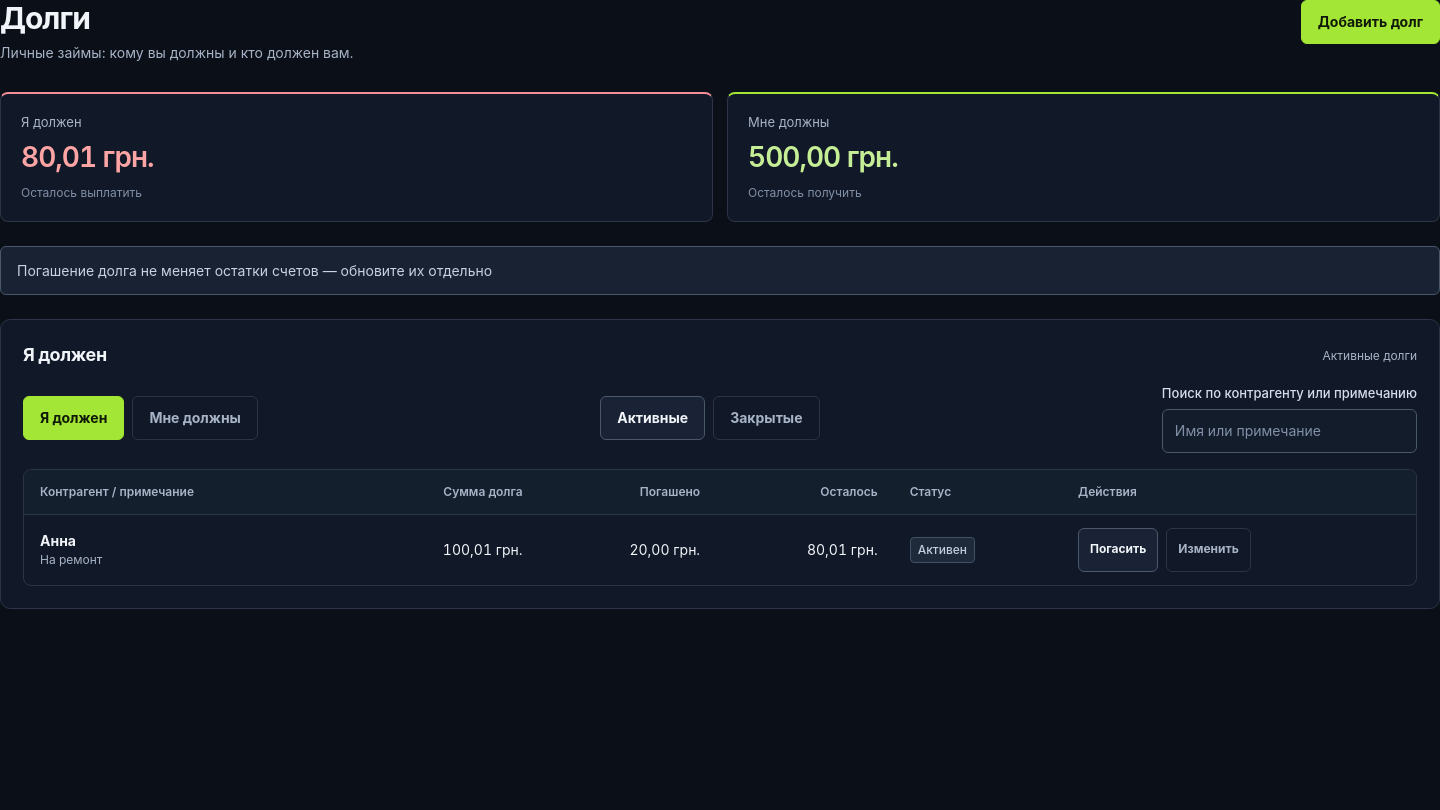
DebtsPage › filters by note, direction and closed state while keeping direction totals
In the search field: (1289, 431) [1162,409,1417,453], type "РЕМОНТ"
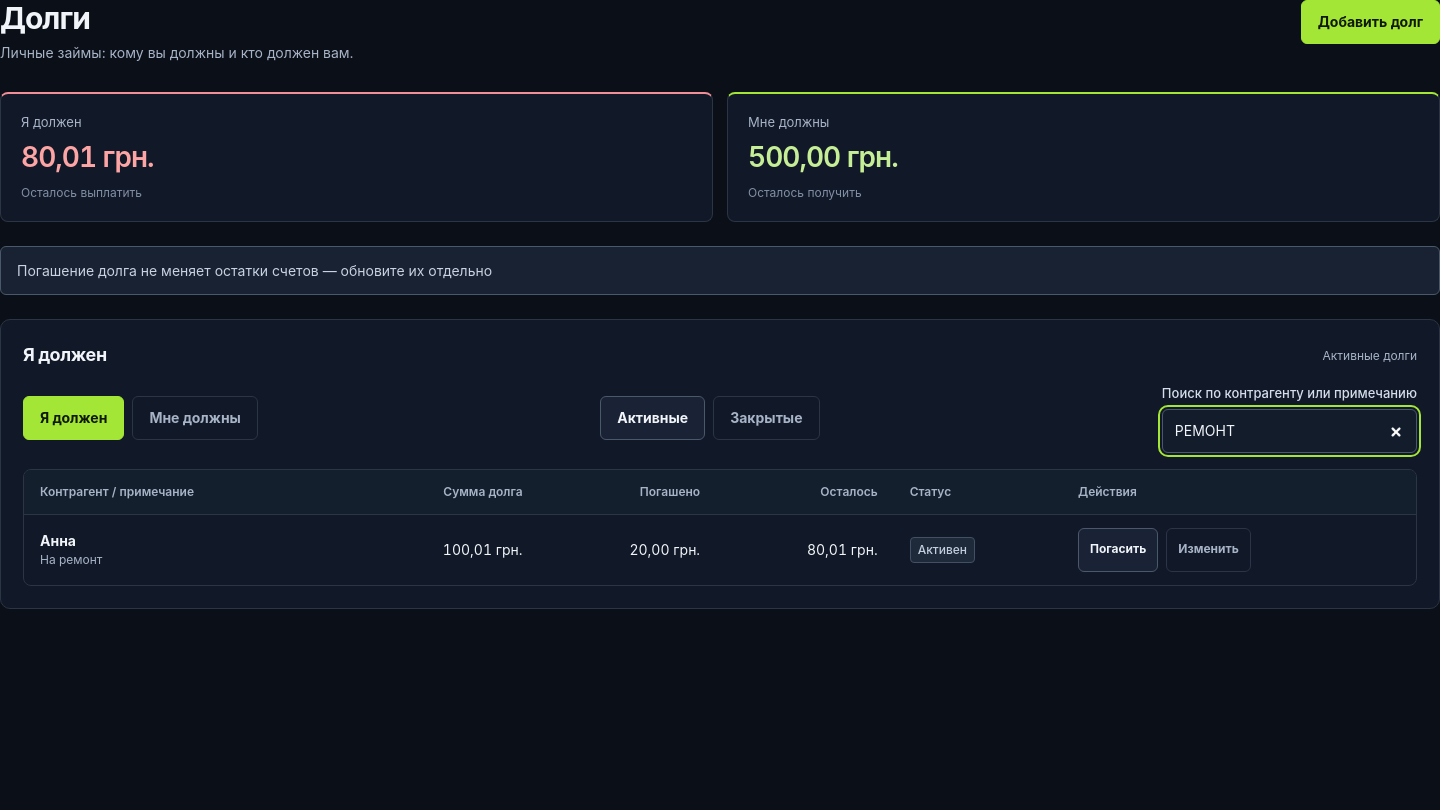
Check: the row "Анна" is shown, box [24,514,1416,585]
Replace the text in the search field with "ничего": (1289, 431) [1162,409,1417,453]
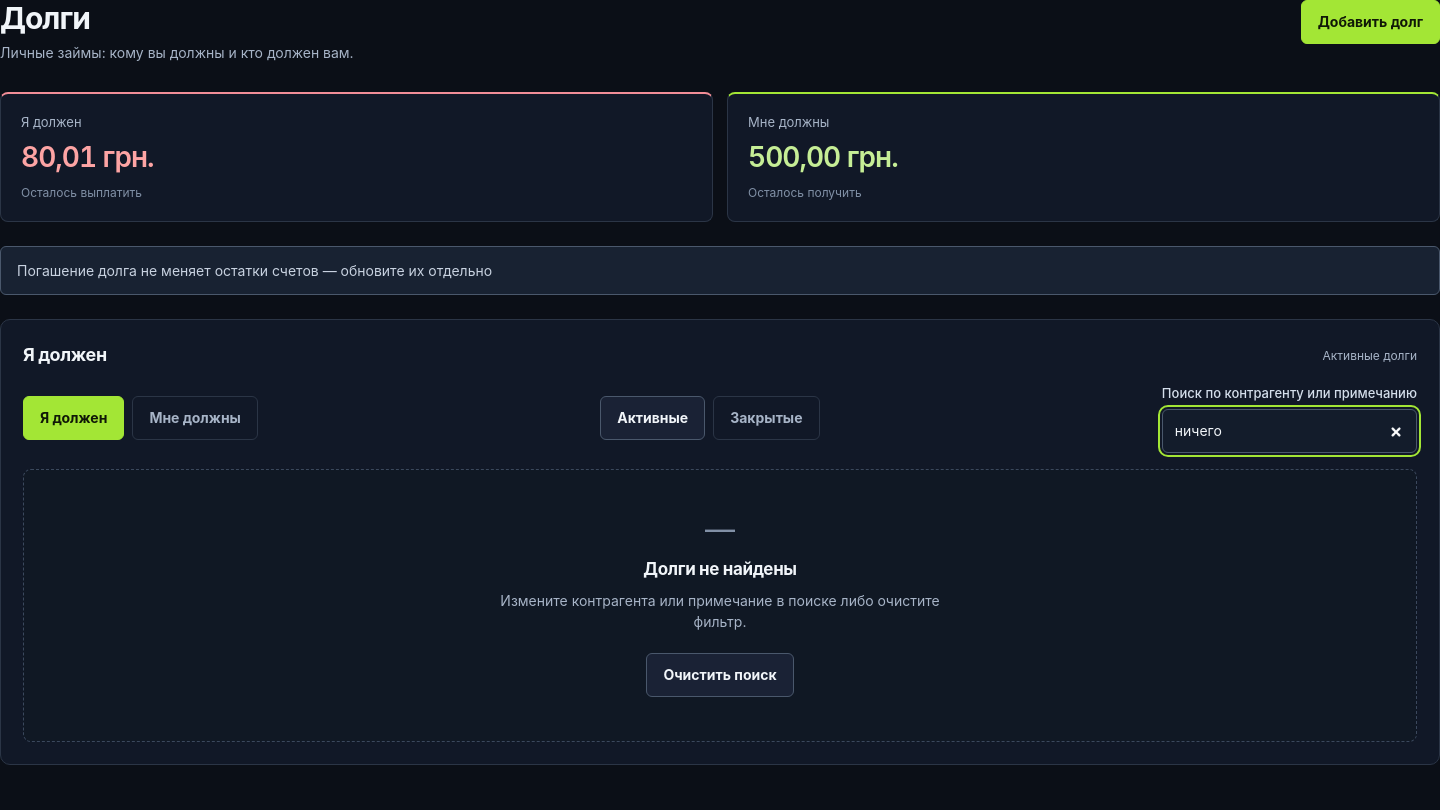
Check: the heading "Долги не найдены" is shown, box [643,558,797,582]
Click the button "Очистить поиск": (720, 675) [646,653,794,697]
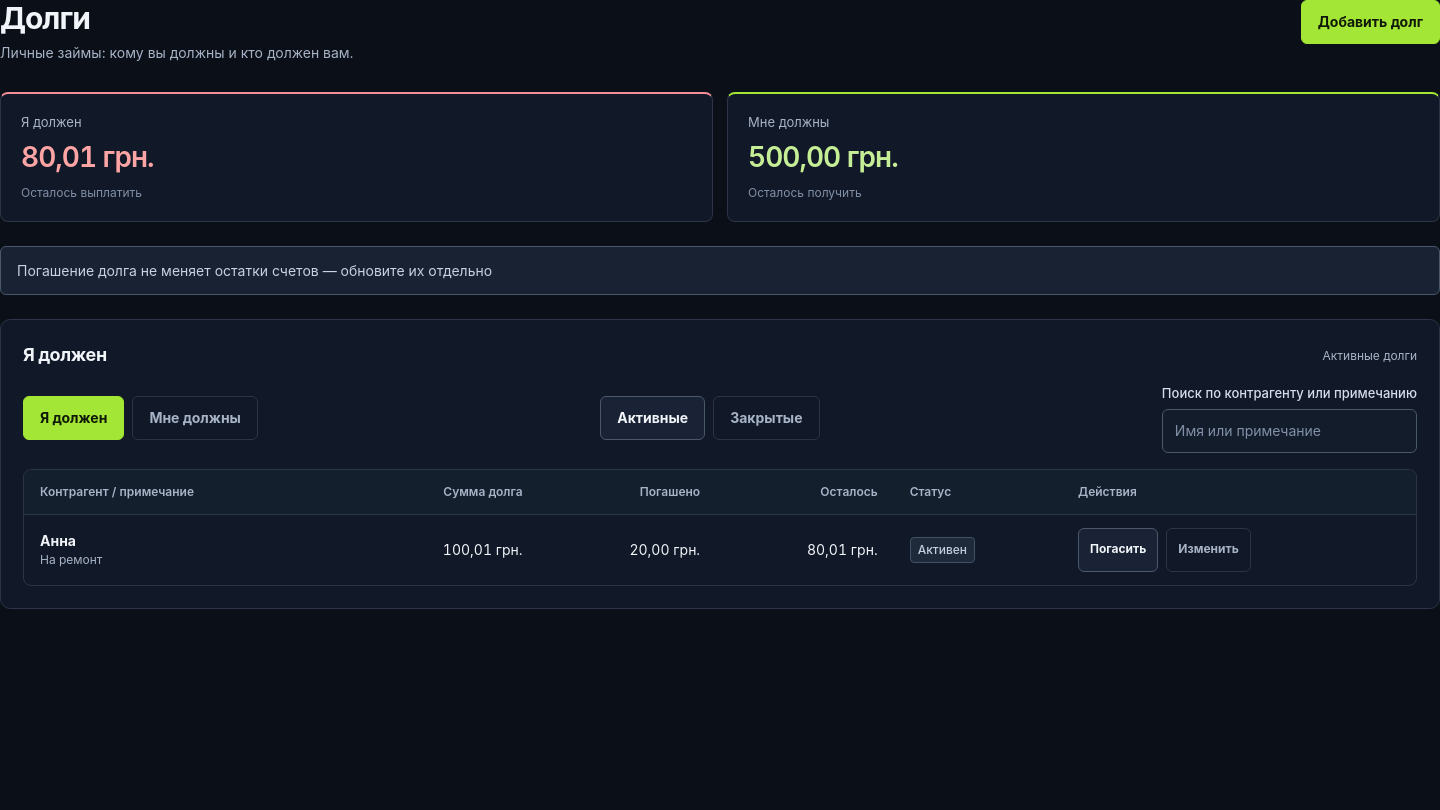
Click the button "Закрытые": (766, 418) [713,396,820,440]
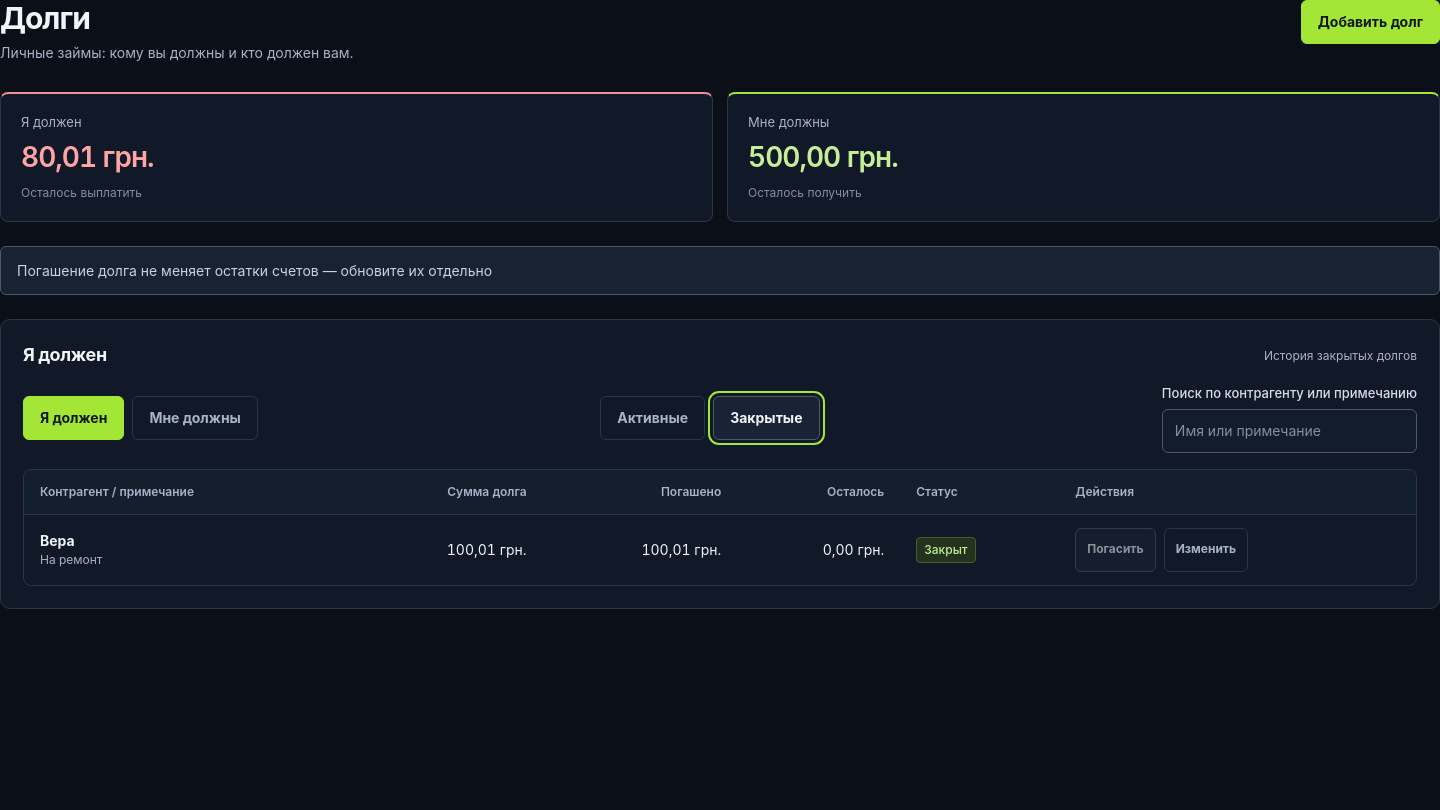
Check: the button with aria-label "Изменить: Вера" is enabled
Check: the button with aria-label "Погасить: Вера" is disabled, box [1075,528,1156,572]
Click the button with aria-label "Изменить: Вера": (1206, 550) [1164,528,1248,572]
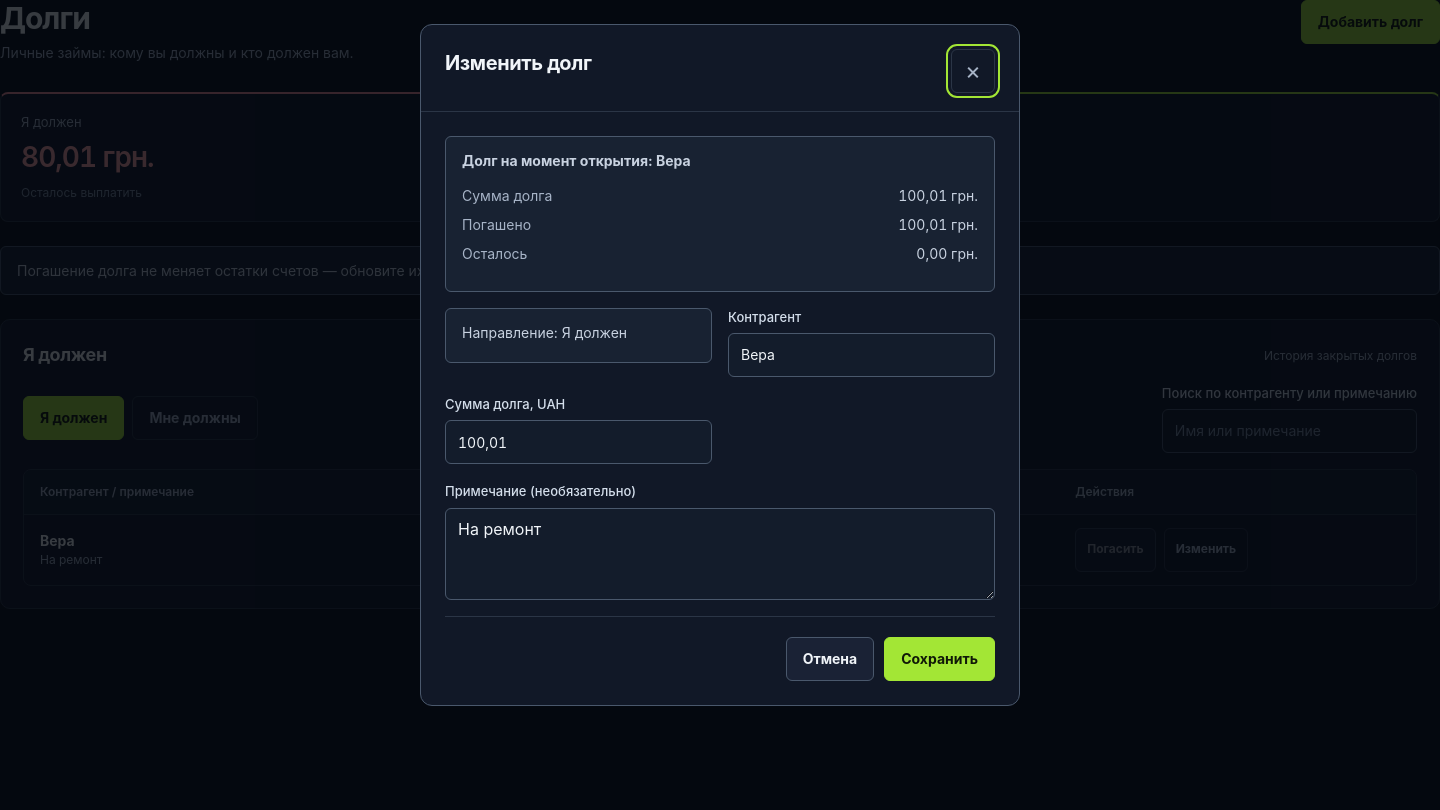
Replace the text in the field labelled "Контрагент" with "Вера Петрова": (862, 355) [728,333,995,377]
Click the button "Сохранить": (940, 659) [884,637,995,681]
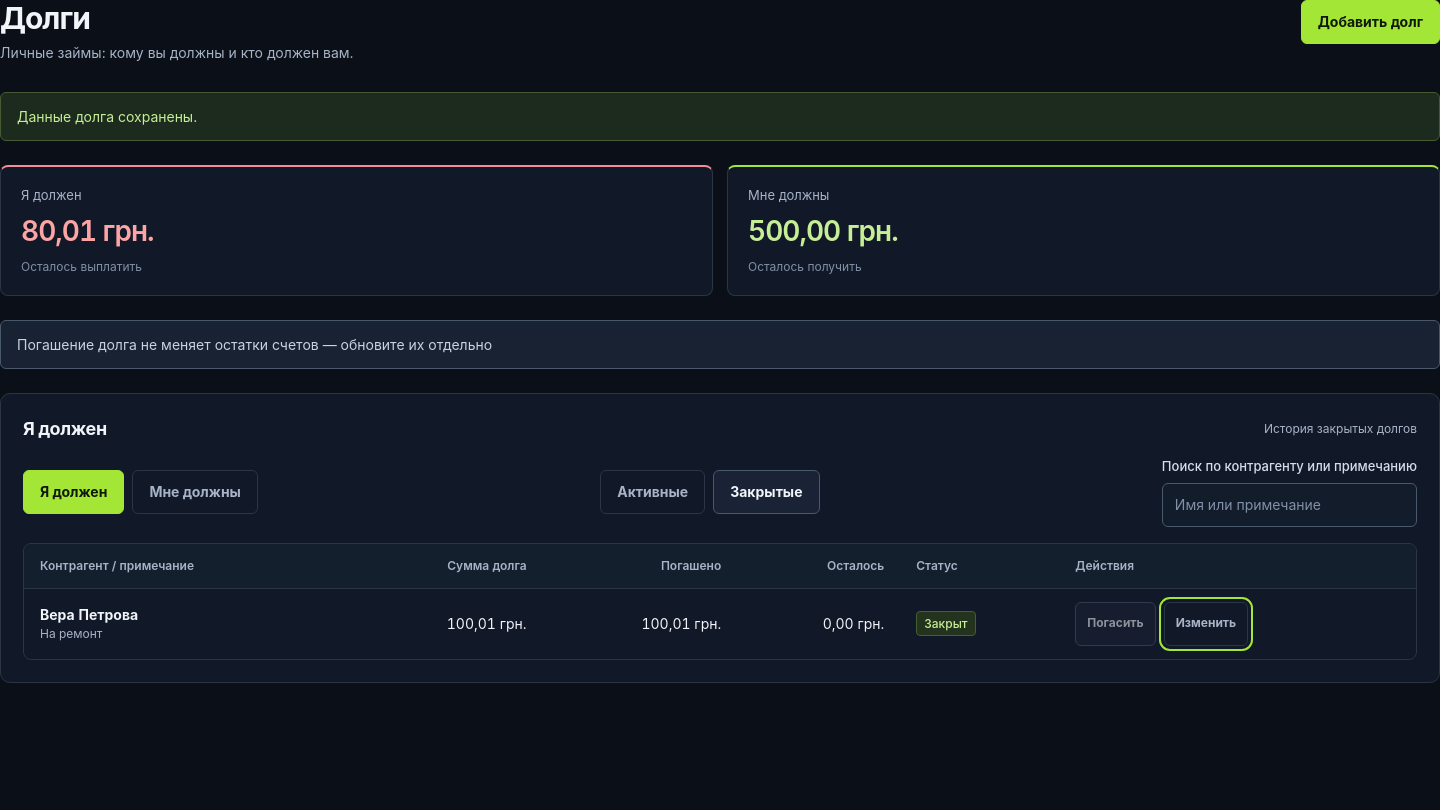
Check: the row "Вера Петрова" is shown, box [24,588,1416,658]
